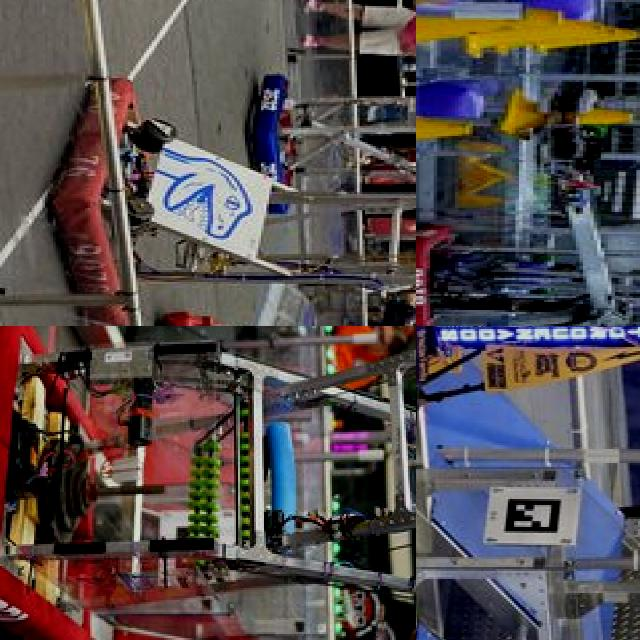FRC-Robots: (0, 326, 416, 640), (416, 326, 640, 551), (60, 104, 287, 320), (416, 149, 640, 326), (267, 65, 416, 219), (416, 227, 640, 326)
